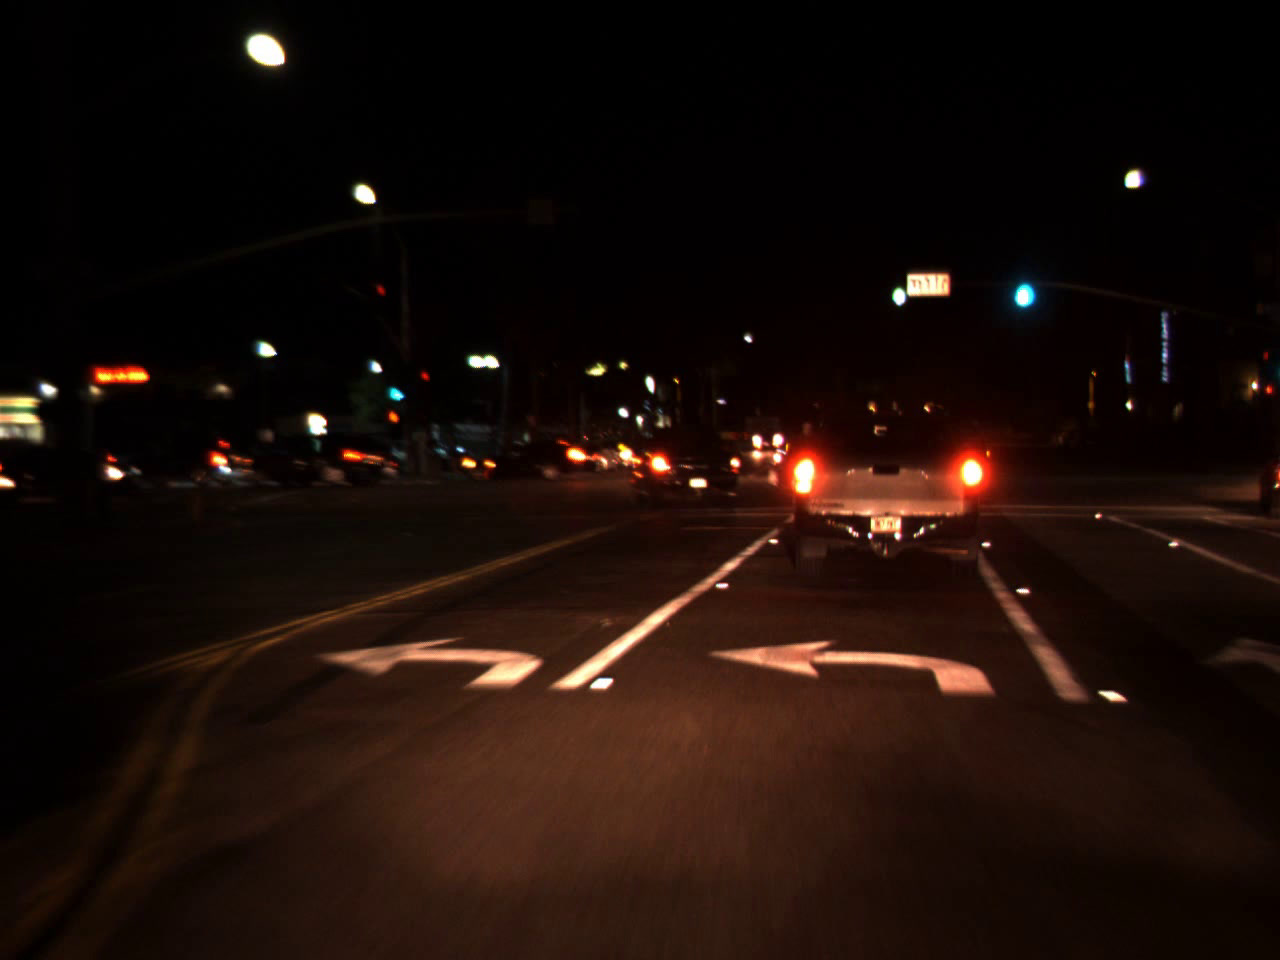go: (1005, 253, 1039, 316), (888, 269, 907, 311), (386, 372, 402, 405)
